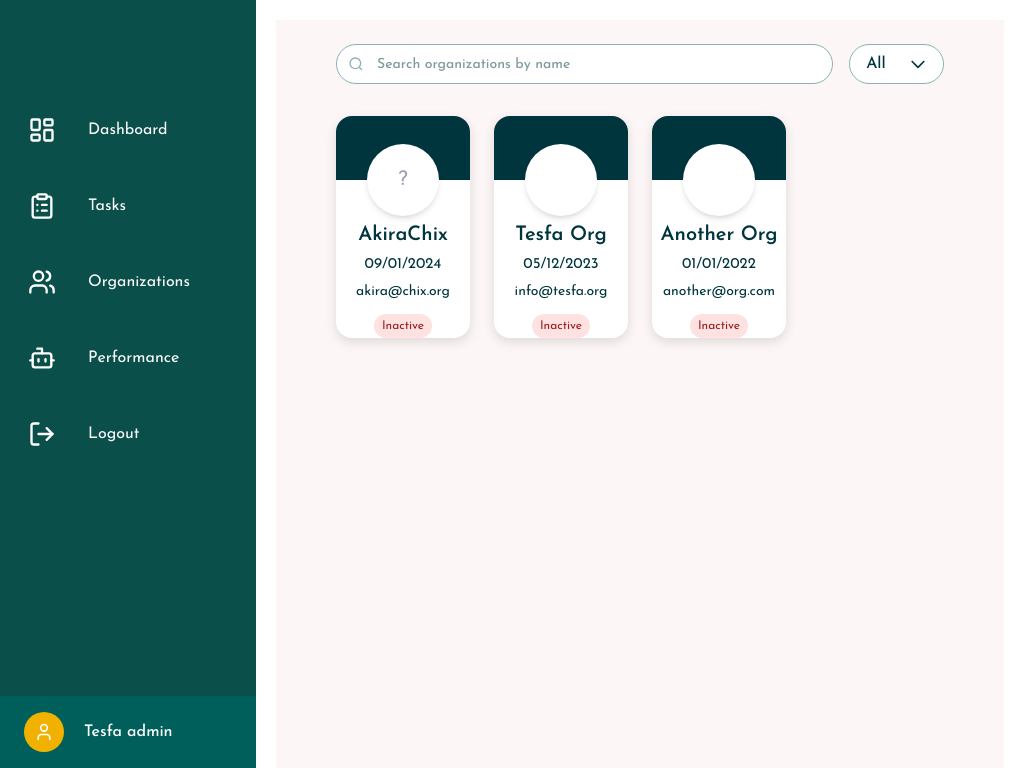
Test: OrganizationsPage › renders 'Organization not found' when no organizations match search
This screenshot has width=1024, height=768.
Type "xyz" into the field with placeholder "Search organizations by name" at (585,64), box [336,44,833,84]
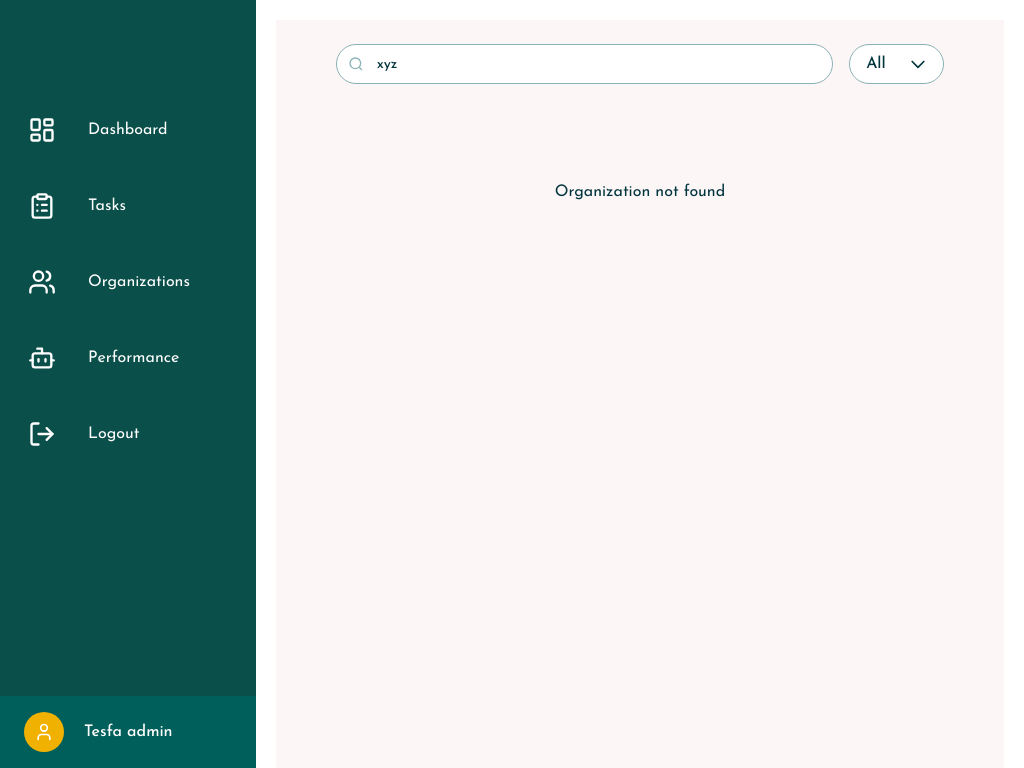
Expected: the text "Organization not found" is shown, [555,184,725,200]
